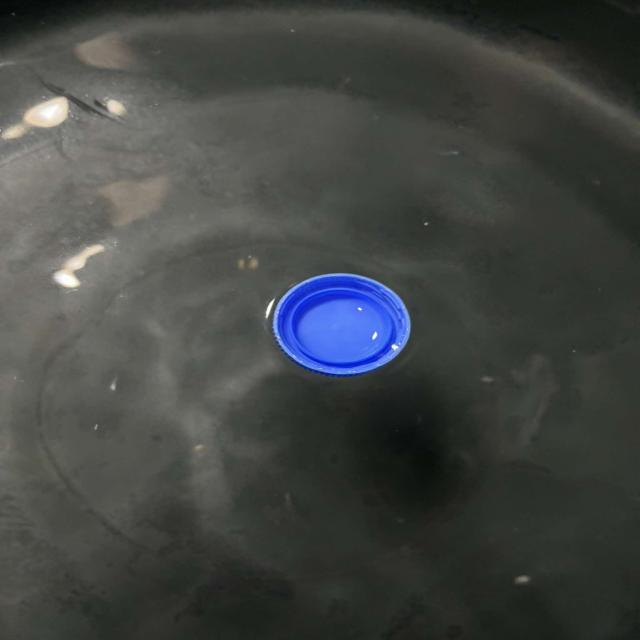Bottle Lid: (271, 273, 410, 376)
